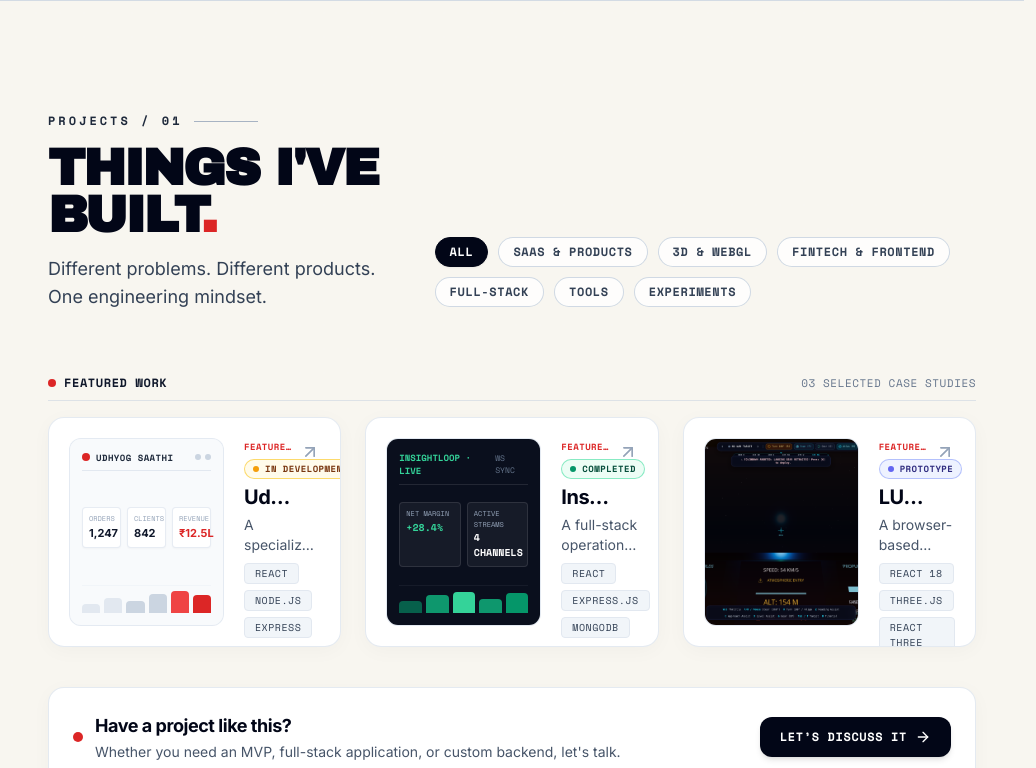
it: ProjectsSection Component › provides category filter tabs that filter projects dynamically
The image size is (1036, 768).
Click the button "TOOLS" at (589, 292), box [554,277,624,307]
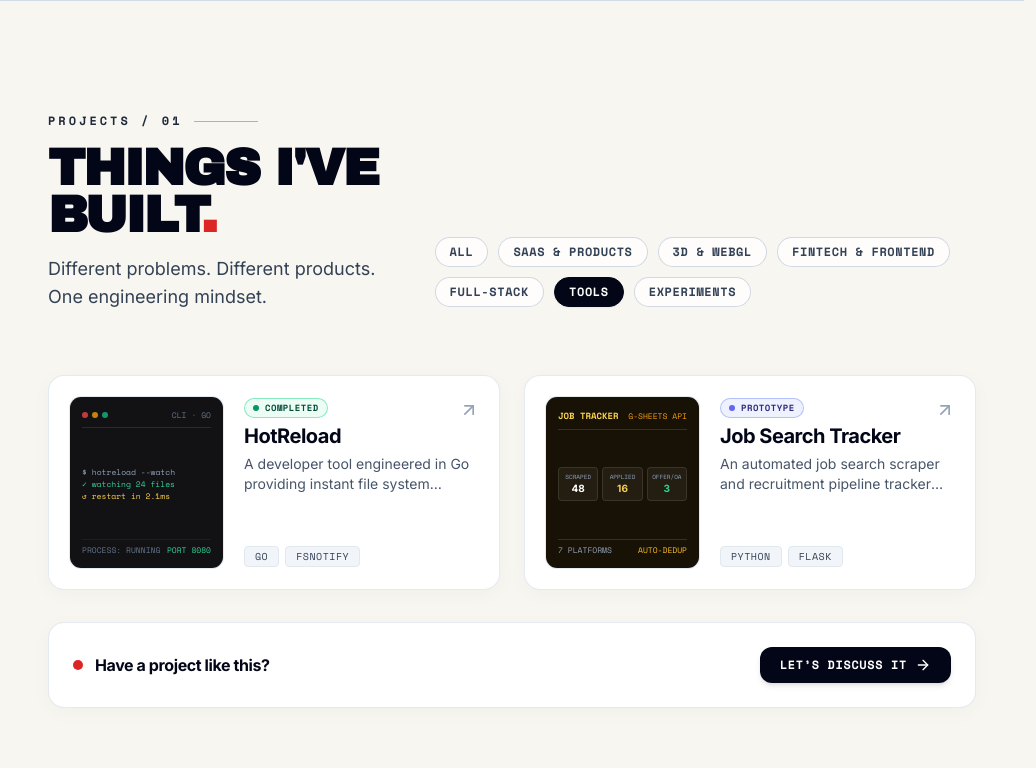
Expected: the heading "HotReload" is shown, [244,424,341,448]
Click ALL to restore
Click the button "ALL" at (461, 252), box [434,237,488,267]
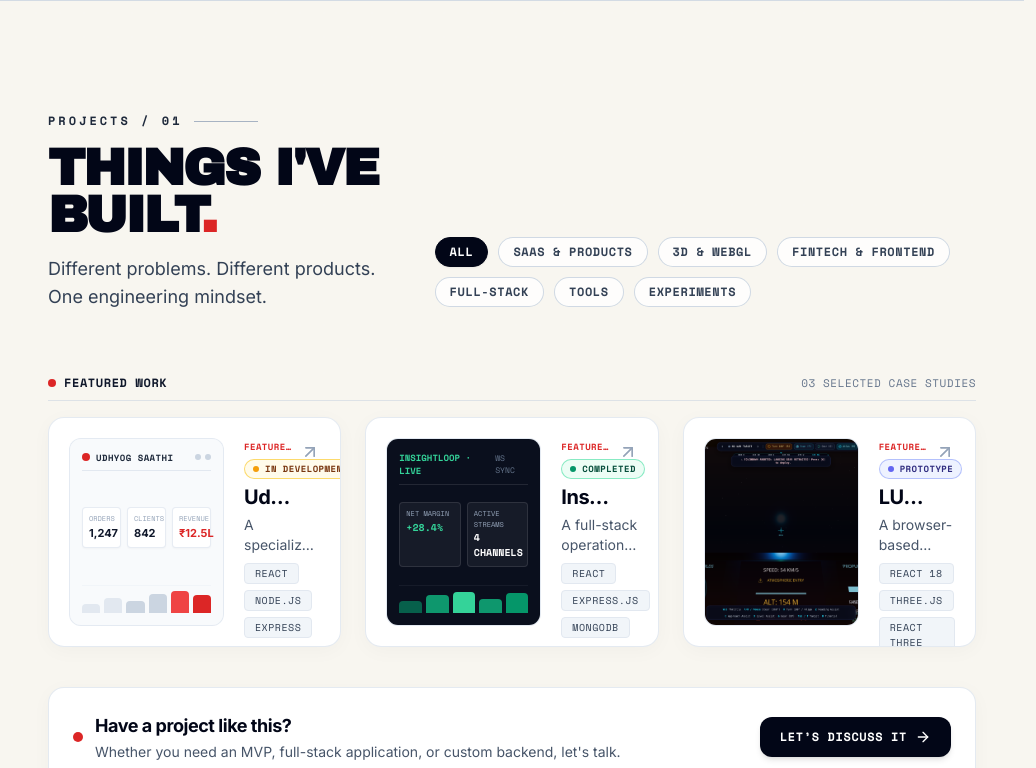
Expected: the heading "Udhyog Saathi" is shown, [244,483,292,511]
